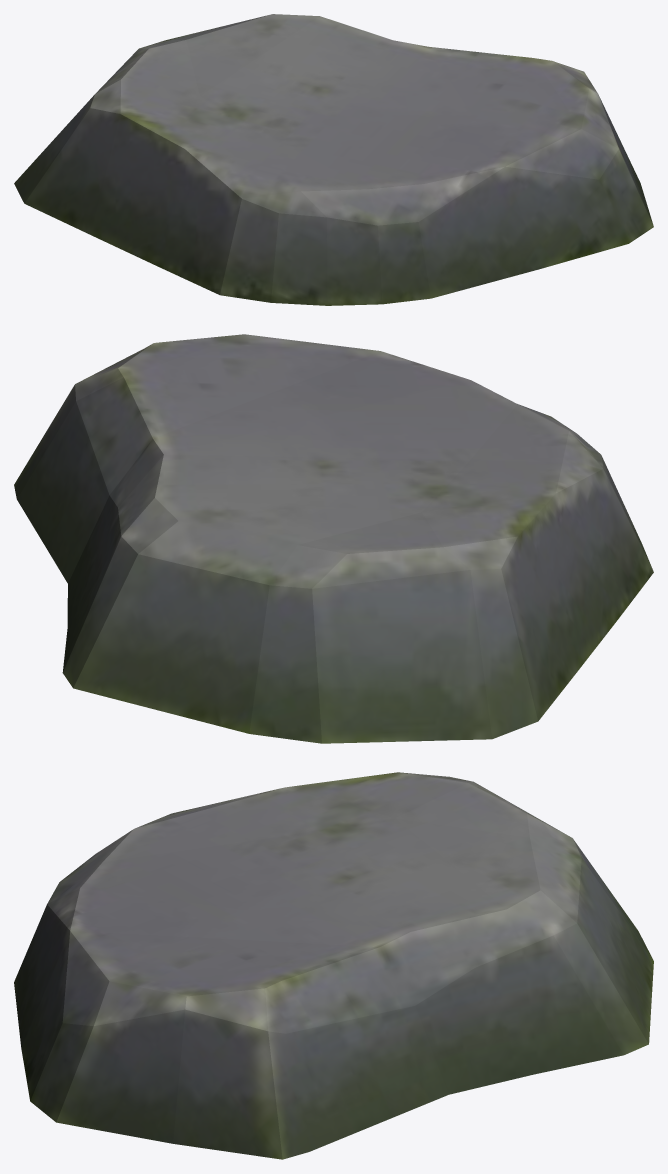
File: Pebble_Round_2.gltf
3 renders of one model, top to bottom at view 1: azimuth 30°, elevation 25°; view 2: azimuth 150°, elevation 25°; view 3: azimuth 270°, elevation 25°, orthographic. The views are drawn at different scales.
Visible parts, largest first — view 1: Pebble_Round_2; view 2: Pebble_Round_2; view 3: Pebble_Round_2.
Boxes of the visible parts, x1,y1,x2,y2 form: Pebble_Round_2: (14, 14, 653, 305); Pebble_Round_2: (14, 334, 653, 743); Pebble_Round_2: (14, 772, 653, 1159).
Size of the model in its own units: 0.4495 by 0.0942 by 0.4111.
Materials: 1 (1 with a texture image).
